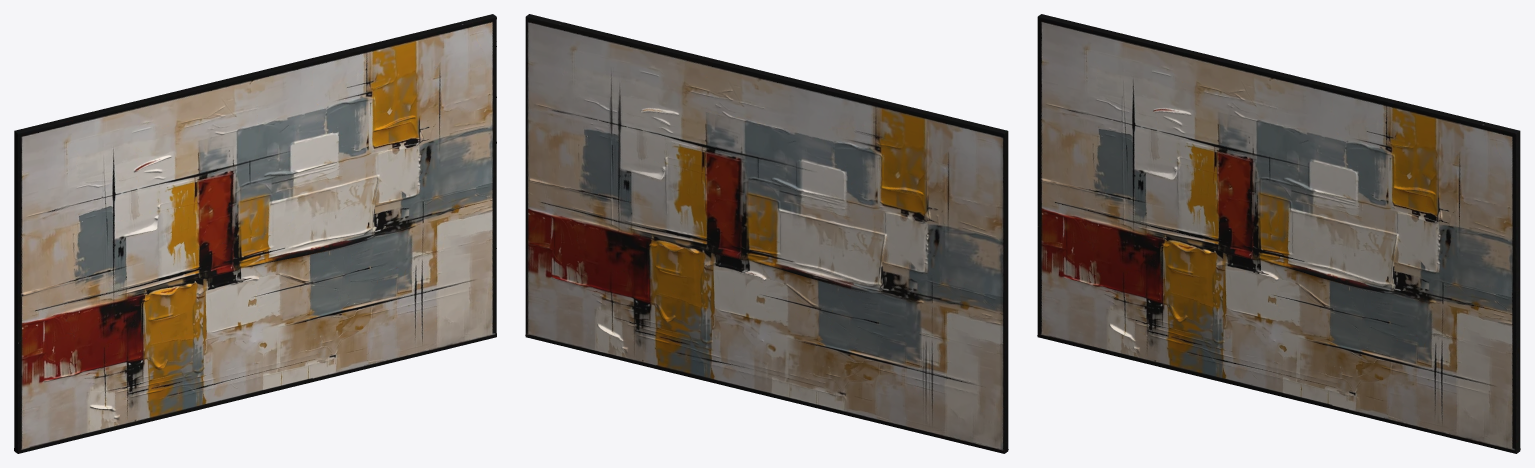
The model's file is Meshy_AI_Urban_Intersections_1012072049_texture.glb.
3 renders of one model, left to right at view 1: azimuth 30°, elevation 25°; view 2: azimuth 150°, elevation 25°; view 3: azimuth 330°, elevation 25°, orthographic.
Bounding box in the file's own units: 1.9 × 1.21 × 0.0576.
Materials: 1 (1 with a texture image).
